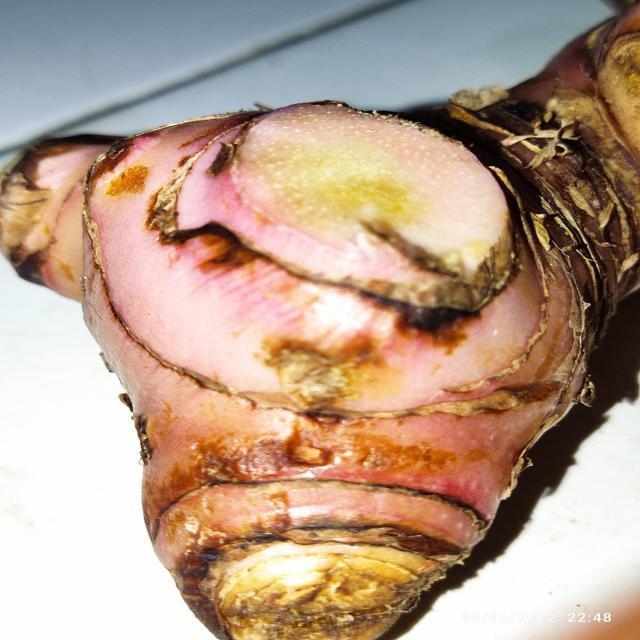ginger: (35, 108, 570, 580)
